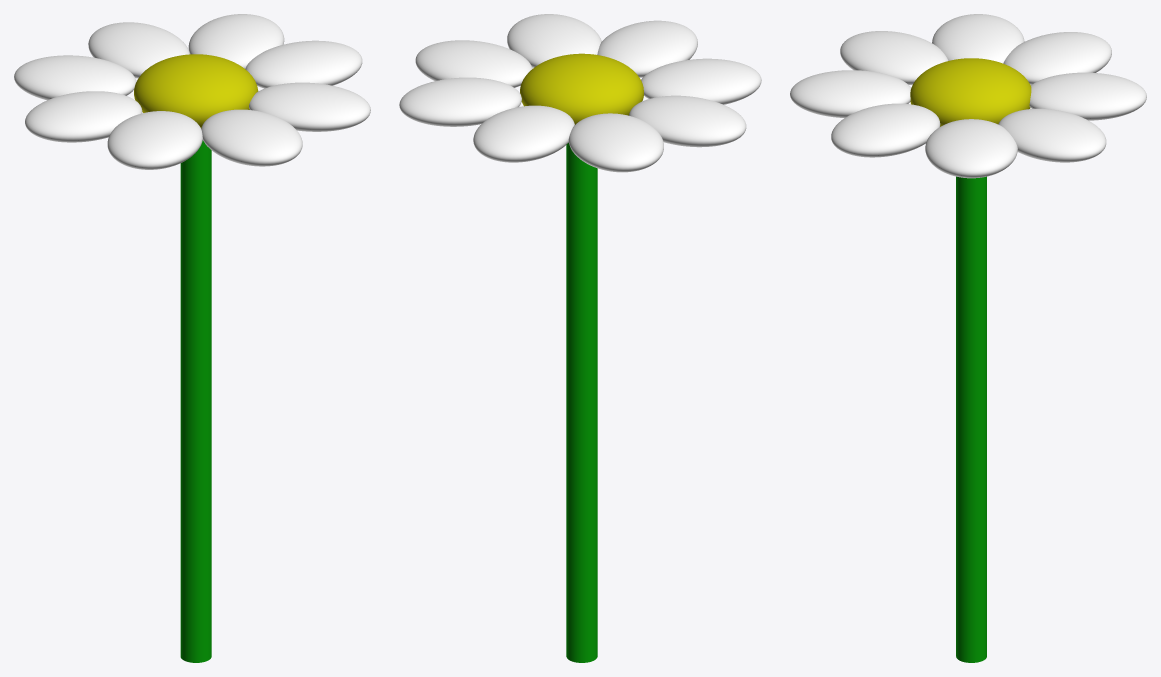
Rendered from flowerz.gltf.
3 views of the same model, side by side, from view 1: azimuth 30°, elevation 25°; view 2: azimuth 150°, elevation 25°; view 3: azimuth 270°, elevation 25° (orthographic).
Parts seen in each view (by area): view 1: MeshInstance3D, MeshInstance3D2, Petal7, Petal6, Petal5, Petal4, Petal, Petal8, Petal3, Petal2; view 2: MeshInstance3D, MeshInstance3D2, Petal2, Petal3, Petal8, Petal5, Petal6, Petal, Petal7, Petal4; view 3: MeshInstance3D, MeshInstance3D2, Petal4, Petal, Petal3, Petal2, Petal7, Petal8, Petal6, Petal5.
Part boxes in pixels (<box>): MeshInstance3D: <box>180,140,211,662</box>; MeshInstance3D2: <box>134,54,258,128</box>; Petal7: <box>201,109,302,166</box>; Petal6: <box>107,111,202,169</box>; Petal5: <box>25,91,142,142</box>; Petal4: <box>249,82,370,131</box>; Petal: <box>245,40,362,88</box>; Petal8: <box>14,55,136,100</box>; Petal3: <box>88,22,189,78</box>; Petal2: <box>188,14,284,68</box>; MeshInstance3D: <box>566,142,597,662</box>; MeshInstance3D2: <box>520,53,643,124</box>; Petal2: <box>399,77,521,126</box>; Petal3: <box>473,105,574,162</box>; Petal8: <box>568,113,663,172</box>; Petal5: <box>629,95,746,147</box>; Petal6: <box>641,58,761,104</box>; Petal: <box>415,40,532,87</box>; Petal7: <box>597,20,697,77</box>; Petal4: <box>507,14,601,67</box>; MeshInstance3D: <box>956,176,986,662</box>; MeshInstance3D2: <box>910,58,1031,126</box>; Petal4: <box>831,103,940,157</box>; Petal: <box>925,119,1017,178</box>; Petal3: <box>1029,72,1146,120</box>; Petal2: <box>998,108,1106,162</box>; Petal7: <box>790,70,911,117</box>; Petal8: <box>1003,32,1111,84</box>; Petal6: <box>840,31,948,84</box>; Petal5: <box>932,14,1024,63</box>.
Bounding box in the file's own units: 0.6023 × 1.05 × 0.5776.
